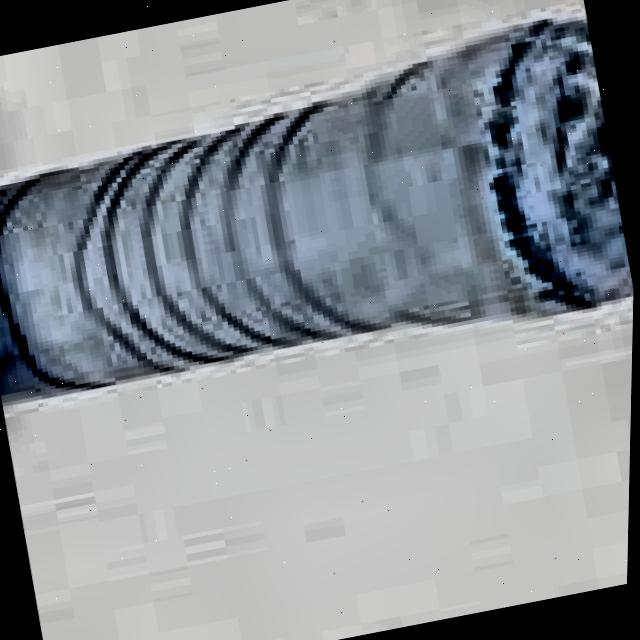plastic: (0, 3, 640, 477)
